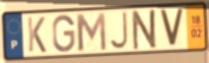G: (51, 14, 76, 54)
J: (108, 11, 129, 51)
K: (26, 16, 48, 54)
M: (74, 11, 109, 53)
N: (131, 7, 159, 52)
V: (158, 8, 186, 49)
